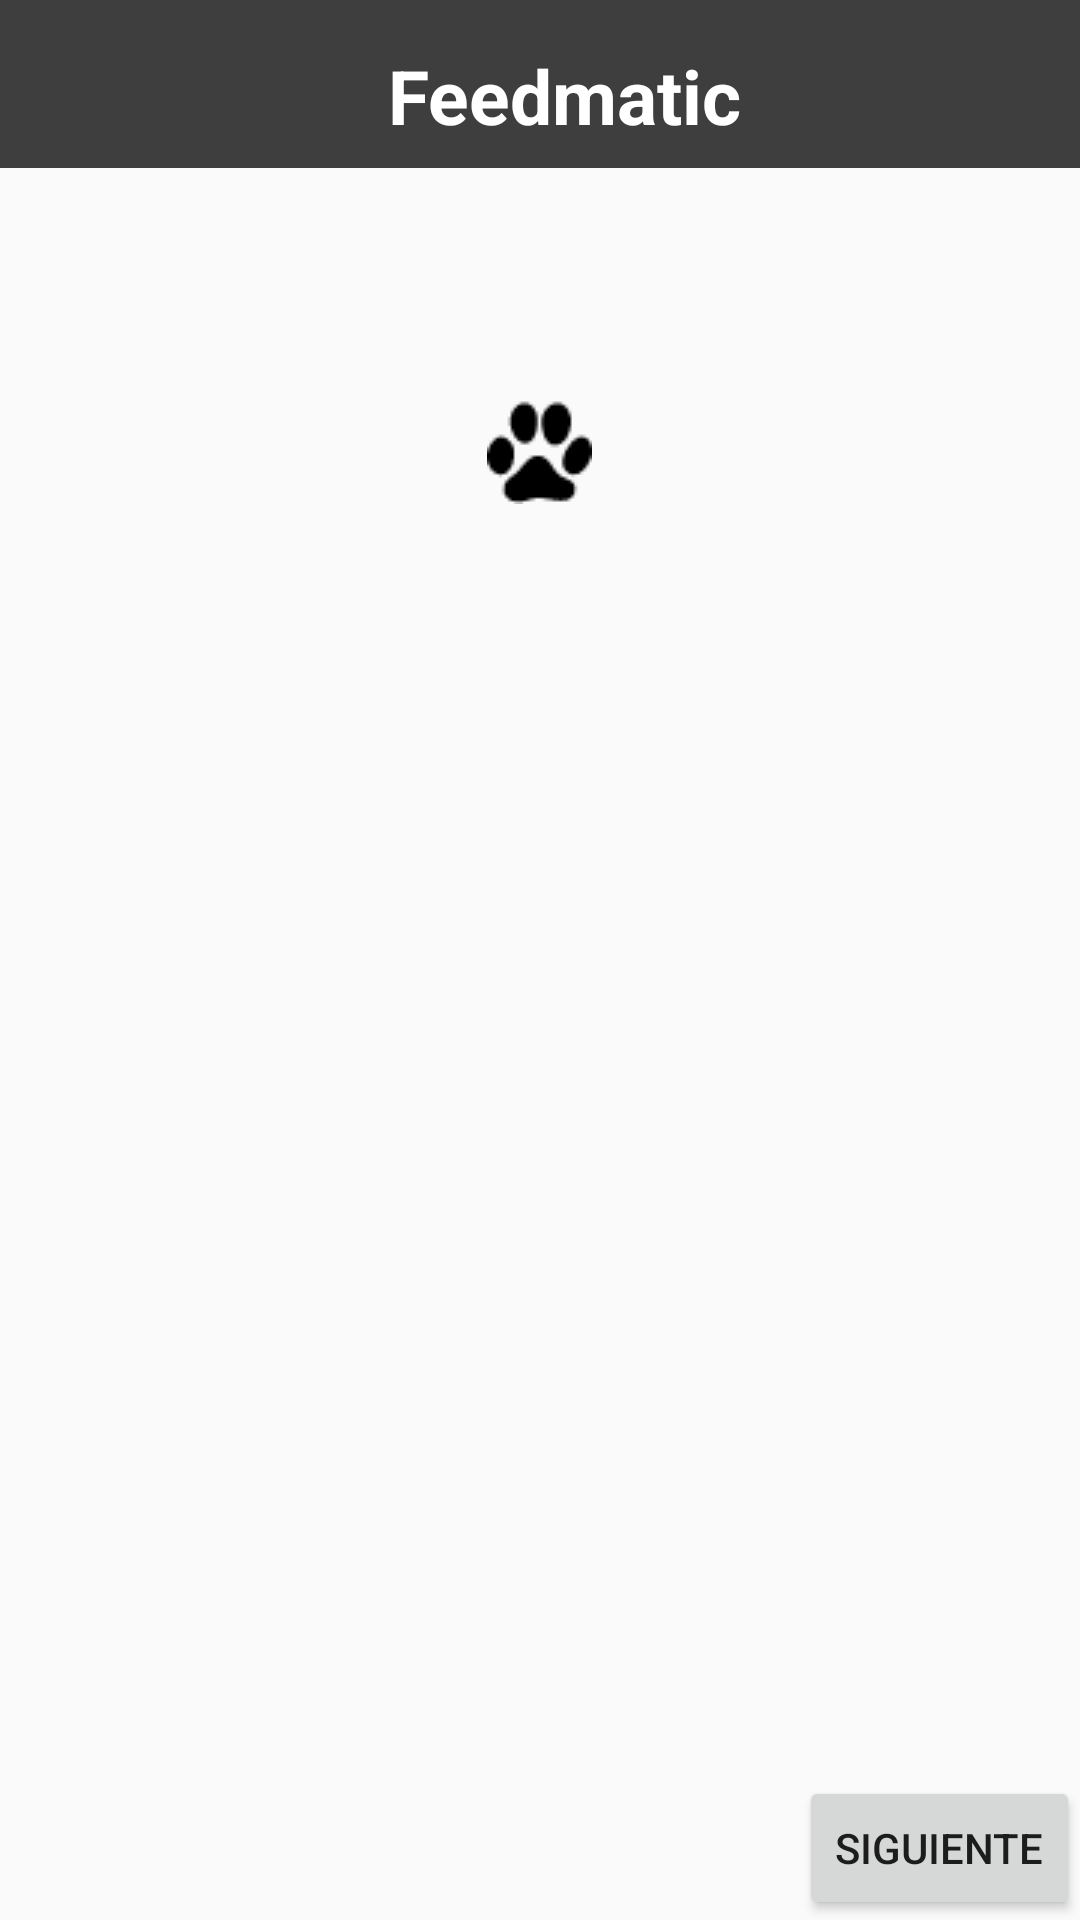

Icon click points for this 1080×1920 phone screenshot, format (x,y):
pet footprint: (539,452)
